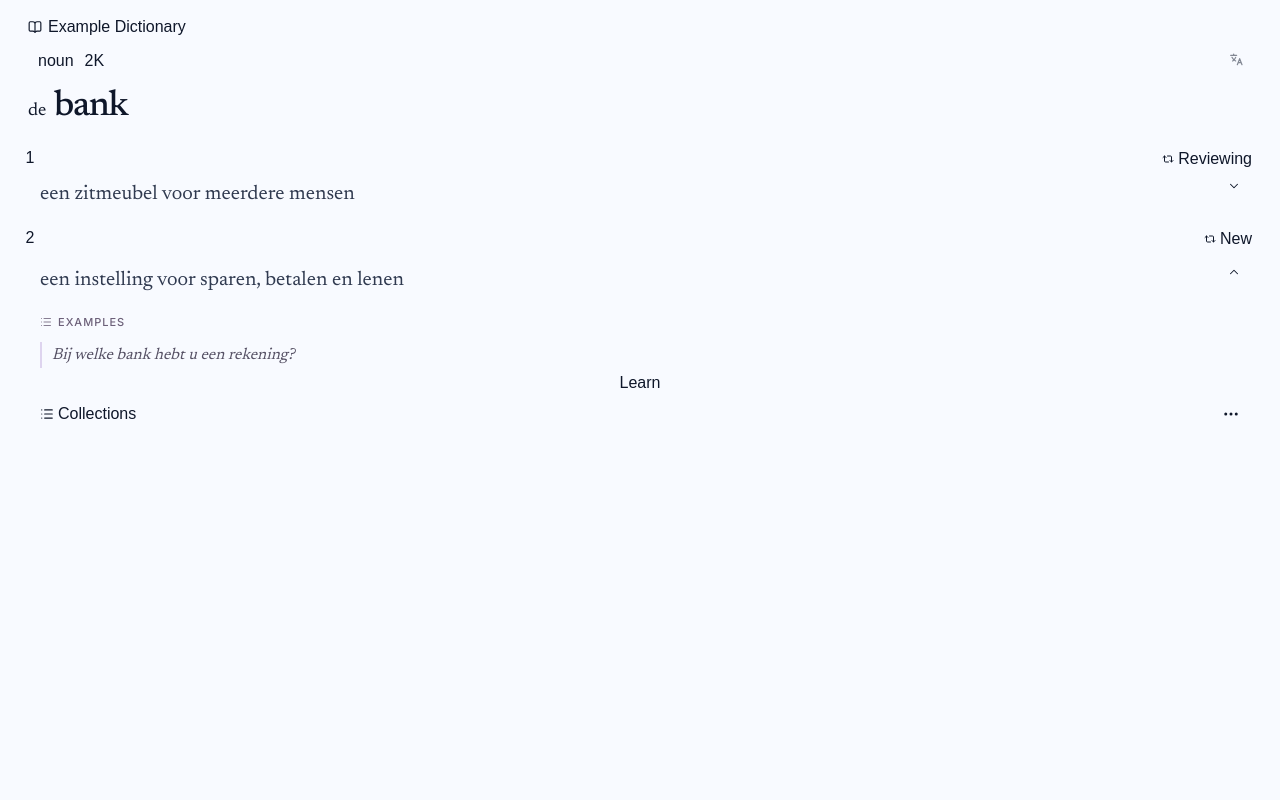
library archive flag=true uses the server capability
Click the button named "More card actions" at {"x": 1231, "y": 414}, box top-left (1222, 400), bottom-right (1240, 428)
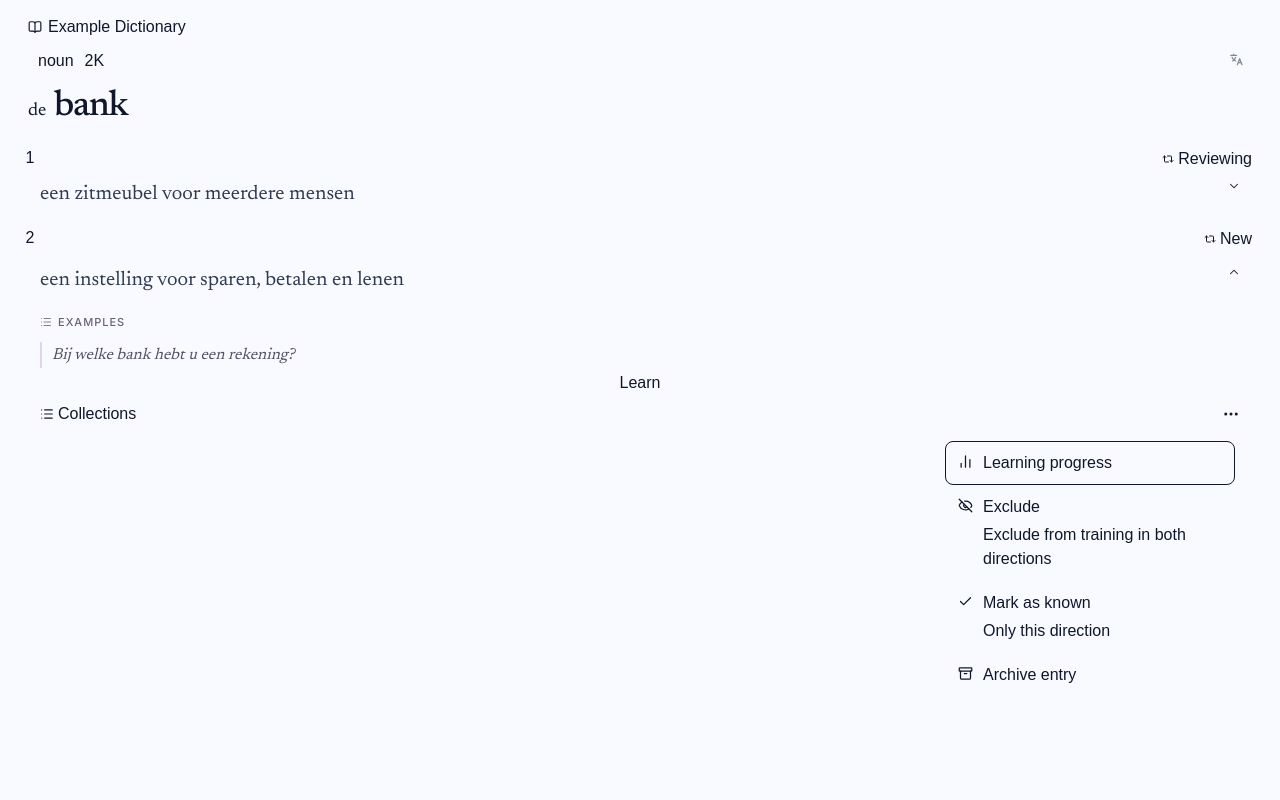
Check: the menu item "Archive entry" is shown, box top-left (945, 653), bottom-right (1235, 697)
